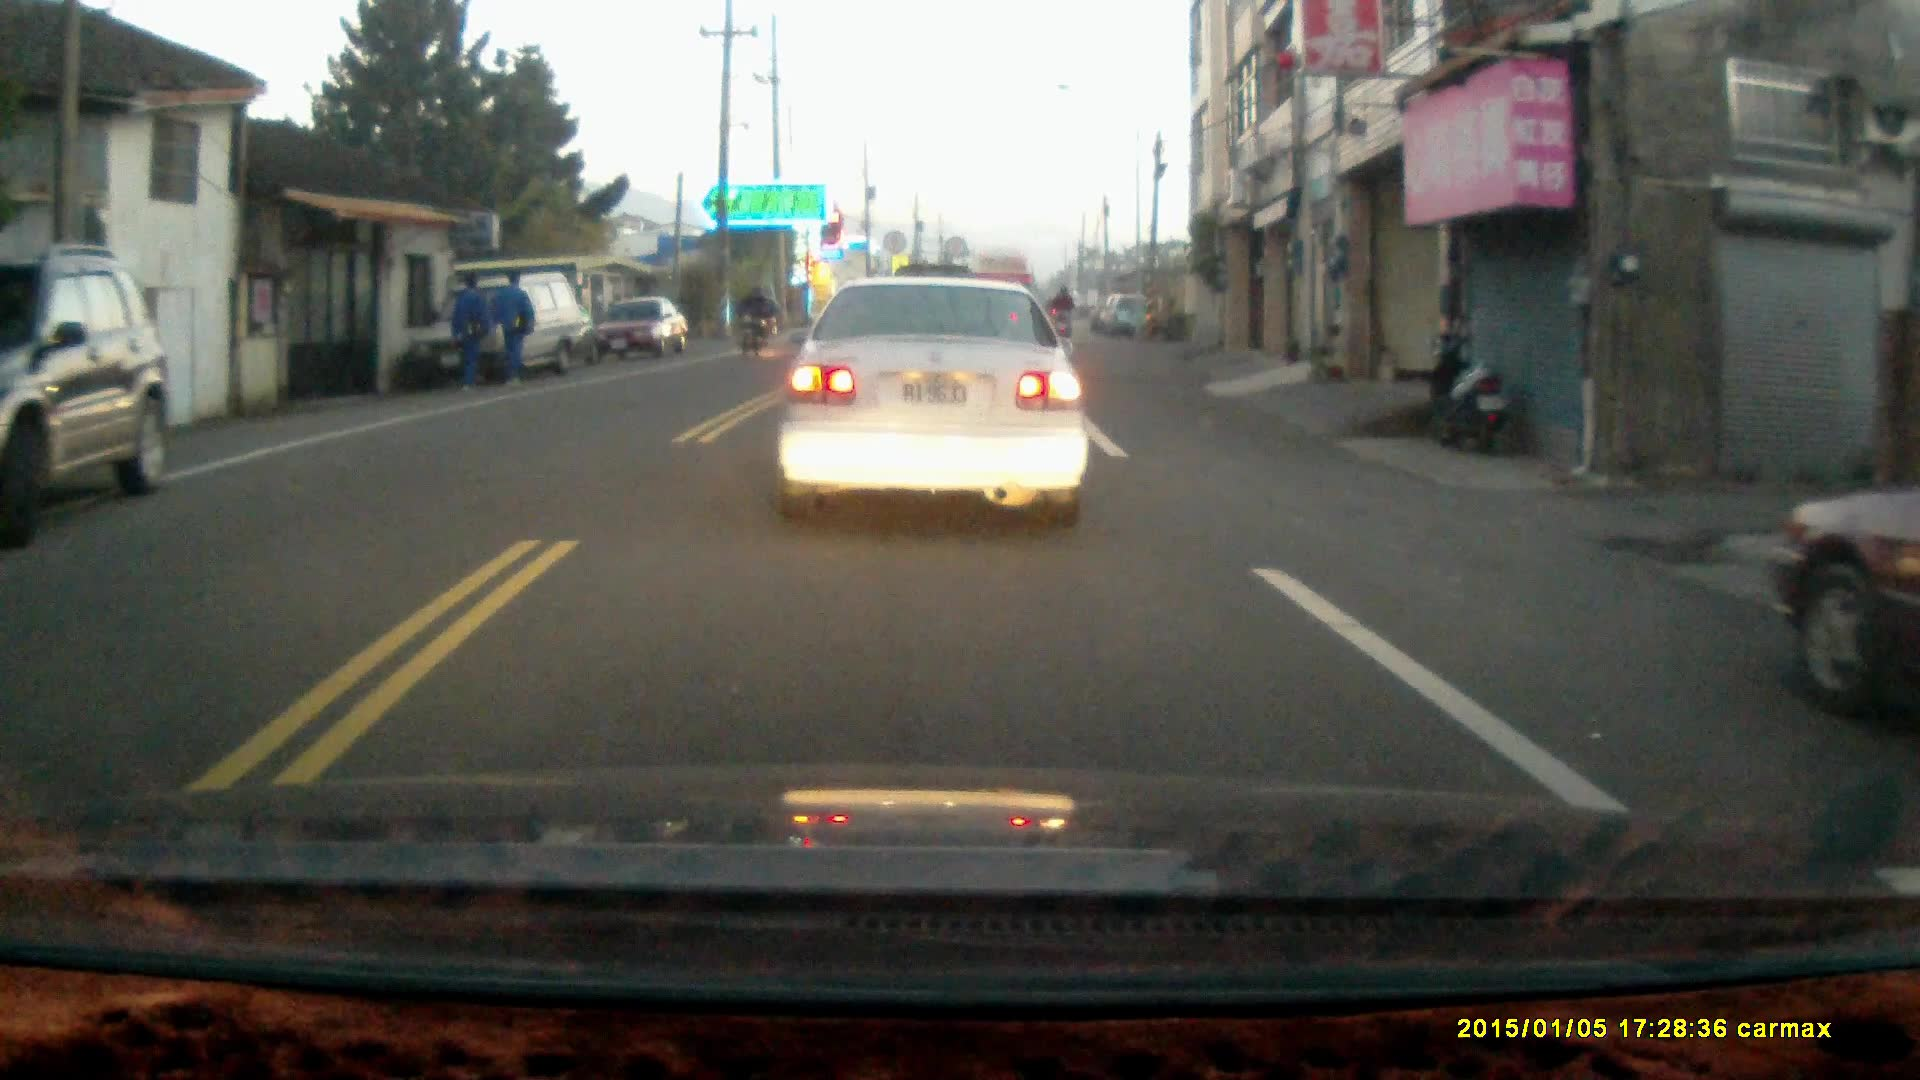pedestrian: (447, 278, 488, 395), (492, 269, 530, 392)
rider: (730, 286, 769, 357)
vehicle: (773, 275, 1094, 529), (1, 258, 170, 539), (1760, 475, 1920, 688), (432, 271, 598, 384), (588, 302, 692, 365)
